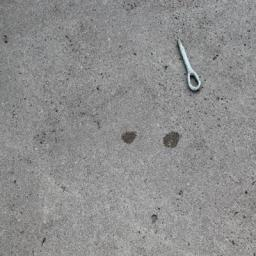FOD: (176, 34, 204, 97)
